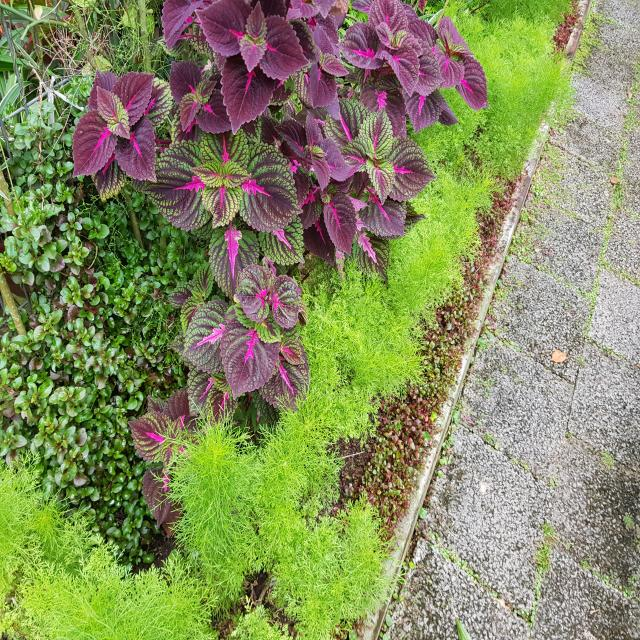Coleus: (154, 2, 352, 144), (154, 114, 298, 242), (347, 4, 489, 120), (204, 255, 315, 396), (333, 95, 430, 237), (69, 70, 166, 183), (125, 395, 191, 449)
Dill: (178, 448, 384, 594), (308, 271, 428, 423), (8, 560, 209, 640)
